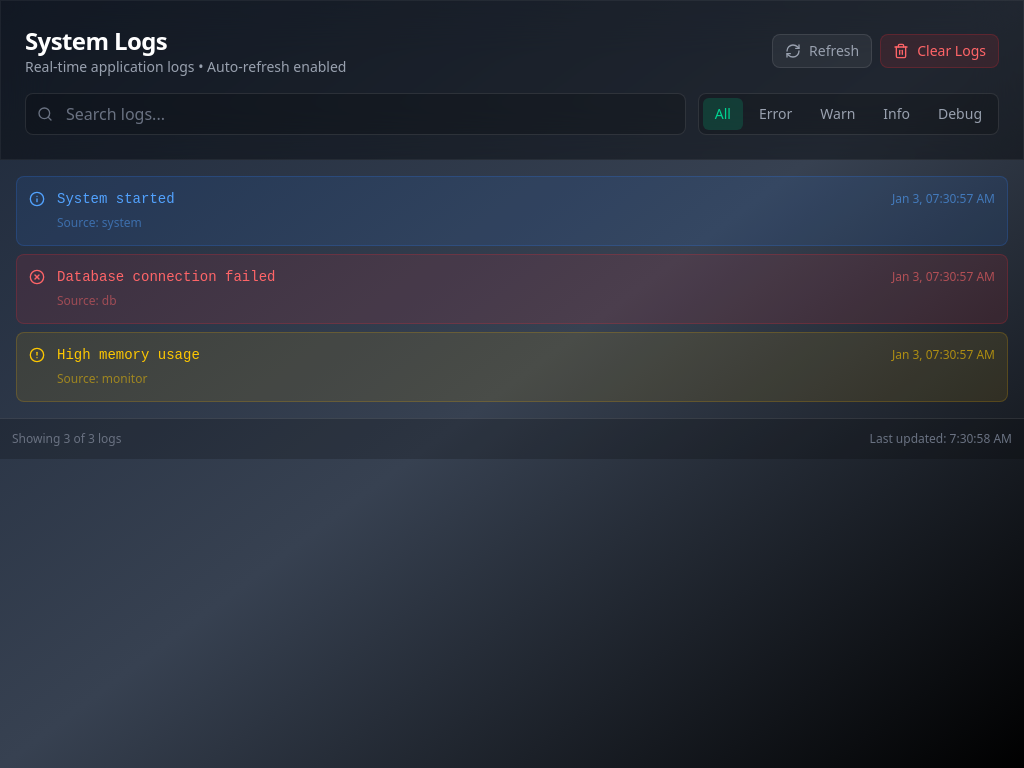
Test: Logs Page › expands log details
The width and height of the screenshot is (1024, 768).
Note: Click on the error log to expand
Click the text "Database connection failed": point(166, 277) [57,269,275,285]
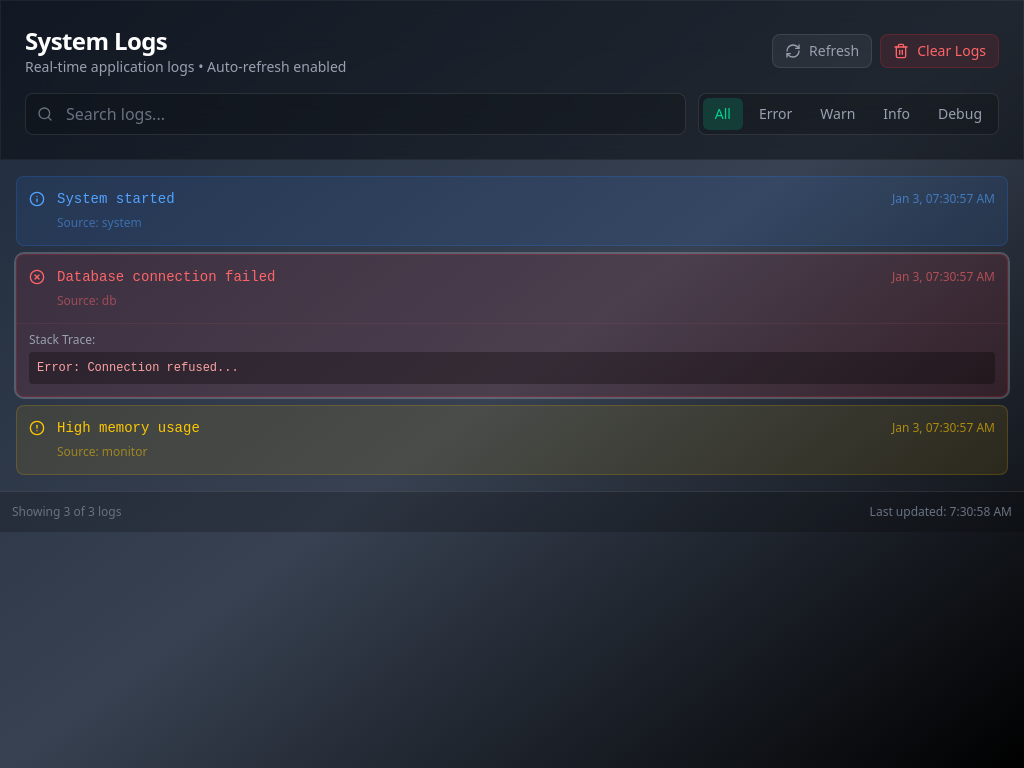
Now the text "Stack Trace:" is shown, box [29,331,95,348]
Now the text "Error: Connection refused..." is shown, box [29,352,995,384]
